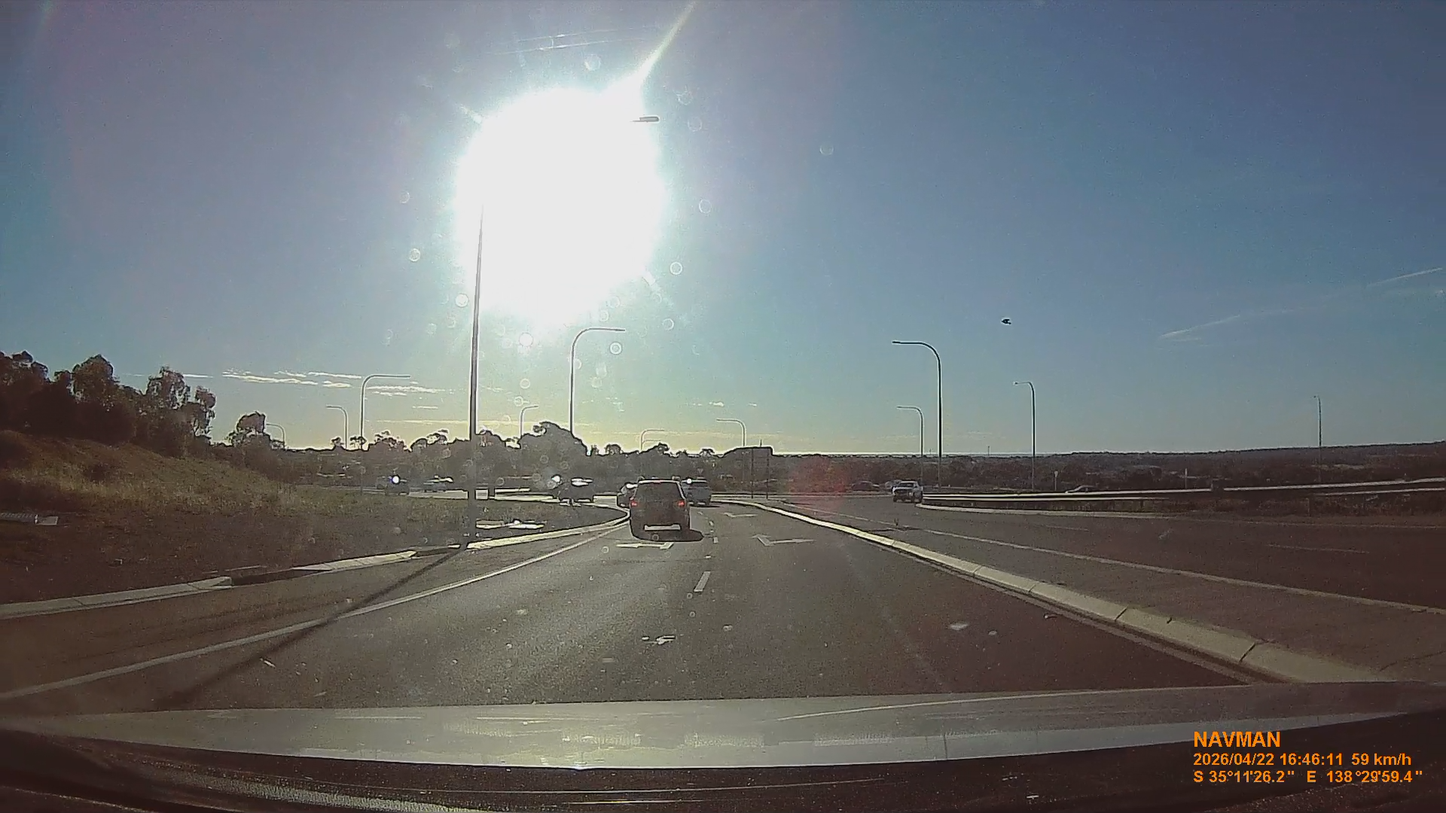road barriers: (924, 478, 1445, 514)
